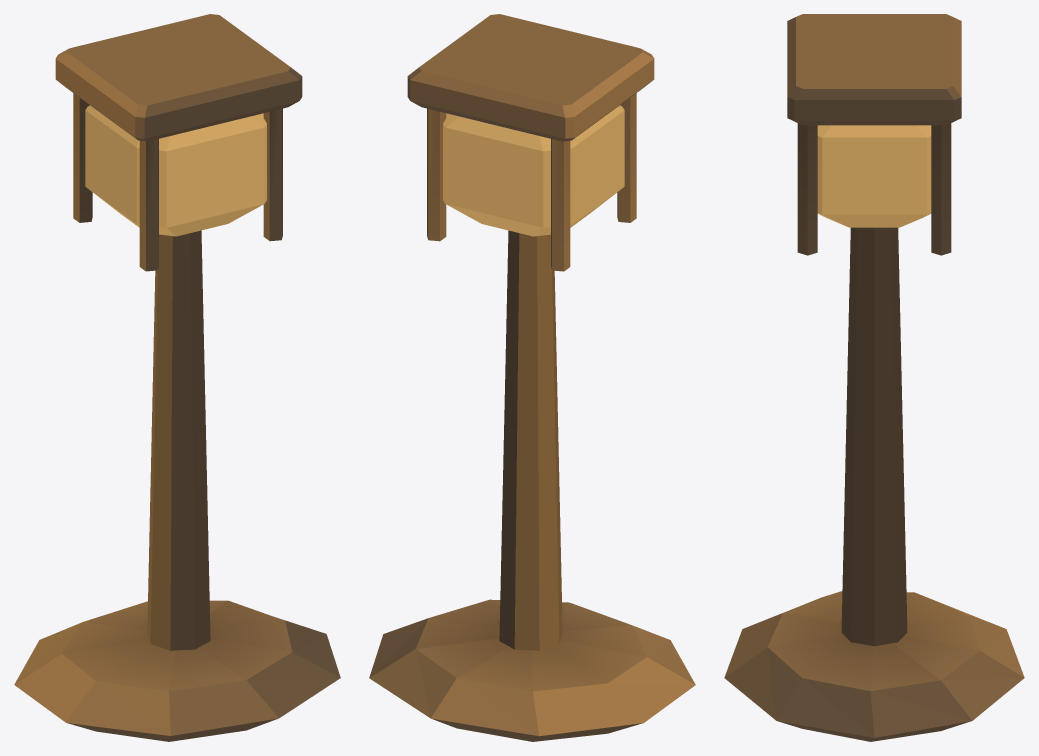
The model's file is furniture_harzlaterne.glb.
3 views of the same model, side by side, from view 1: azimuth 30°, elevation 25°; view 2: azimuth 150°, elevation 25°; view 3: azimuth 270°, elevation 25° (orthographic).
Visible parts, largest first — view 1: furniture_harzlaterne; view 2: furniture_harzlaterne; view 3: furniture_harzlaterne.
Part boxes in pixels (bbox=[...]): furniture_harzlaterne: bbox=[14, 14, 340, 741]; furniture_harzlaterne: bbox=[369, 14, 695, 741]; furniture_harzlaterne: bbox=[724, 14, 1024, 741].
Bounding box in the file's own units: 0.6983 × 1.5 × 0.6303.
